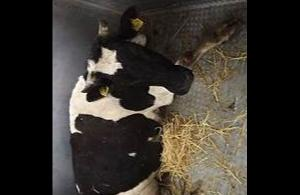cow: (67, 5, 203, 195)
